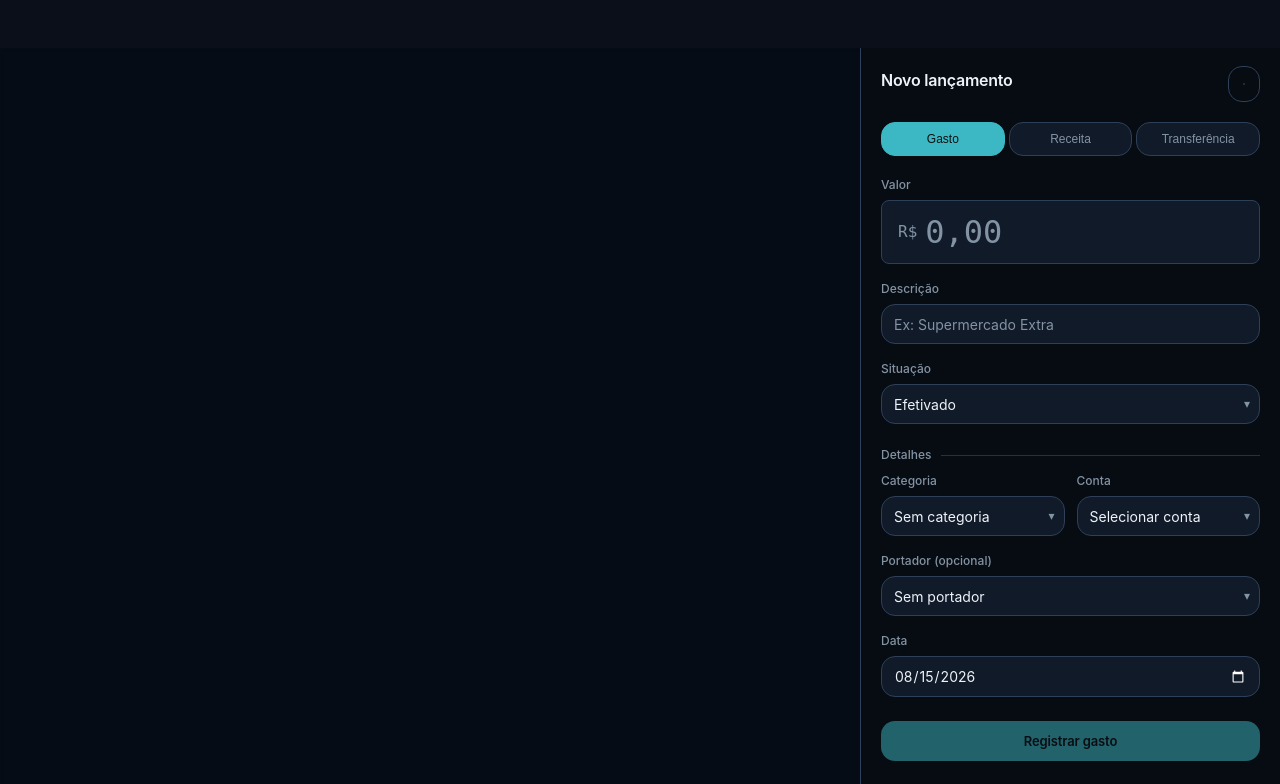
Test: ModalNovoLancamento › mantém o rascunho e explica o erro quando salvar falha
Type "50,00" into the field named "Valor do lançamento em reais" at coordinates (1084, 232), box [925,213,1243,251]
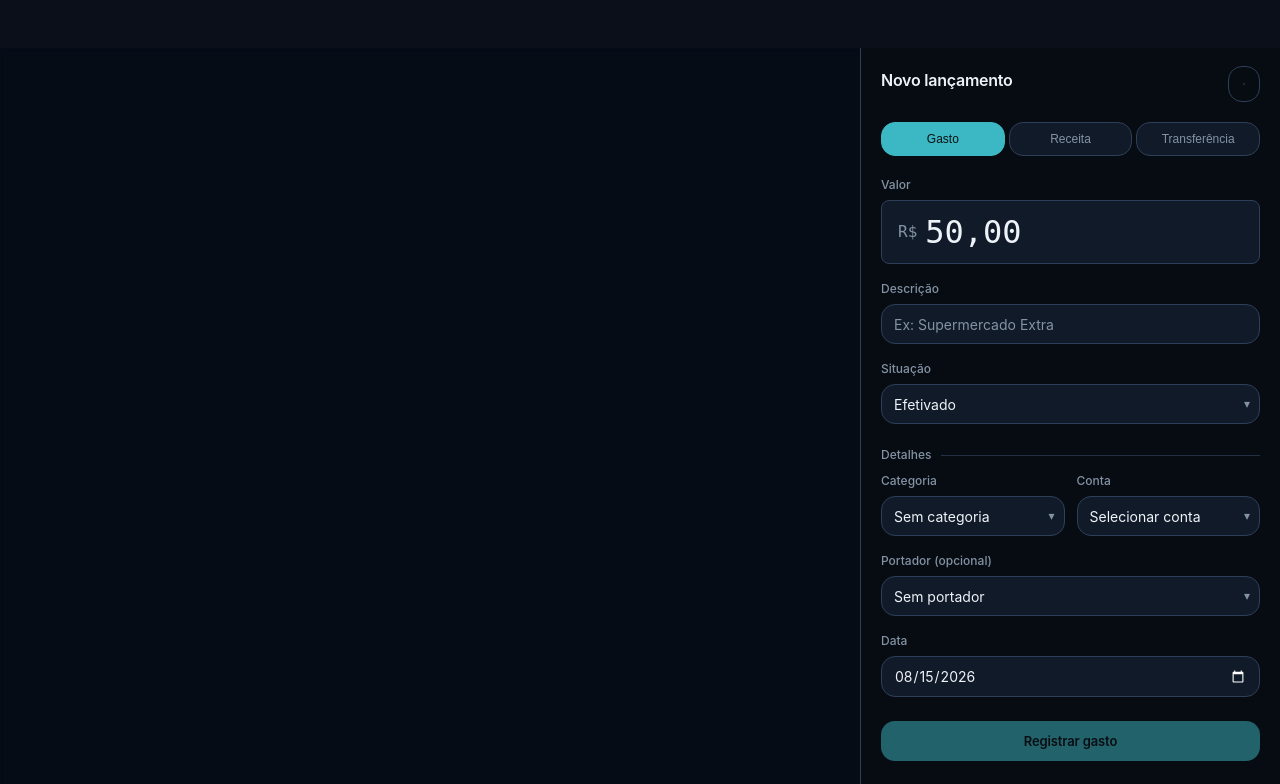
Type "Supermercado" into the field named "Descrição do lançamento" at coordinates (1070, 324), box [881,304,1260,344]
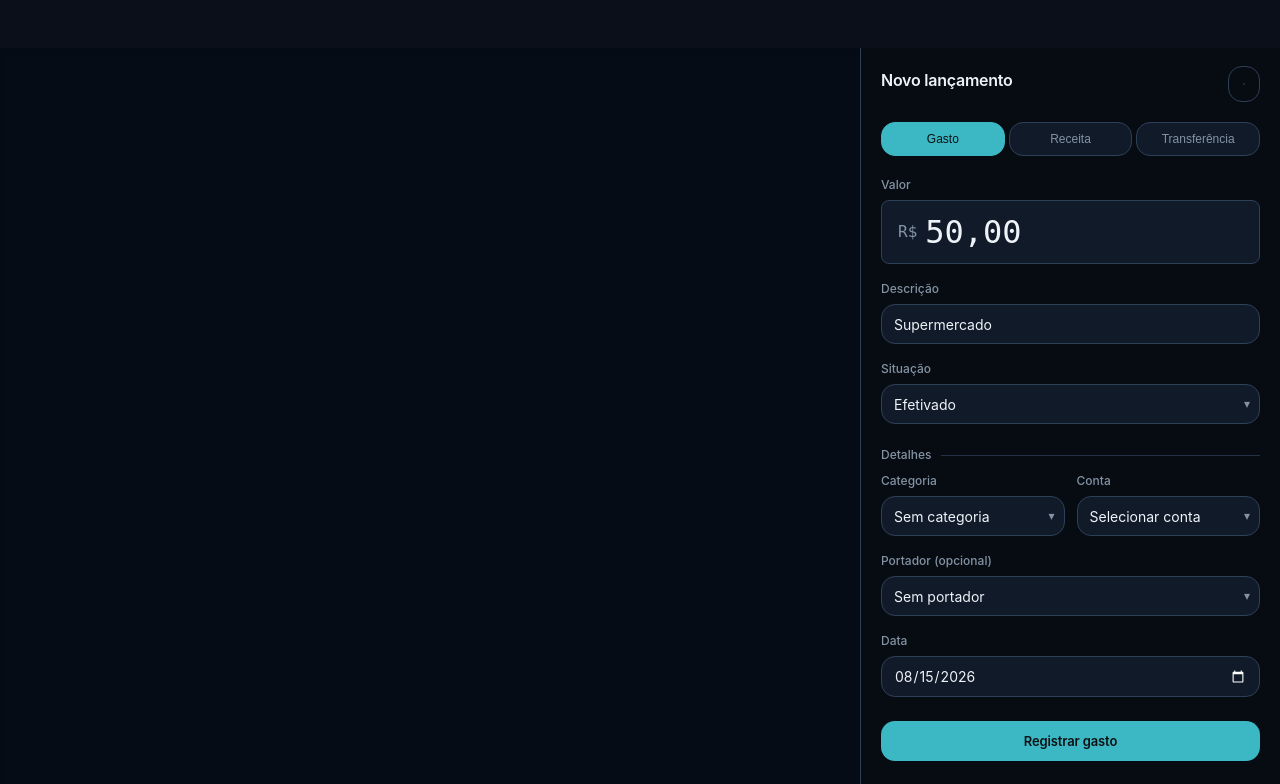
Click the button with class "cta" at coordinates (1070, 741), box [881,721,1260,761]
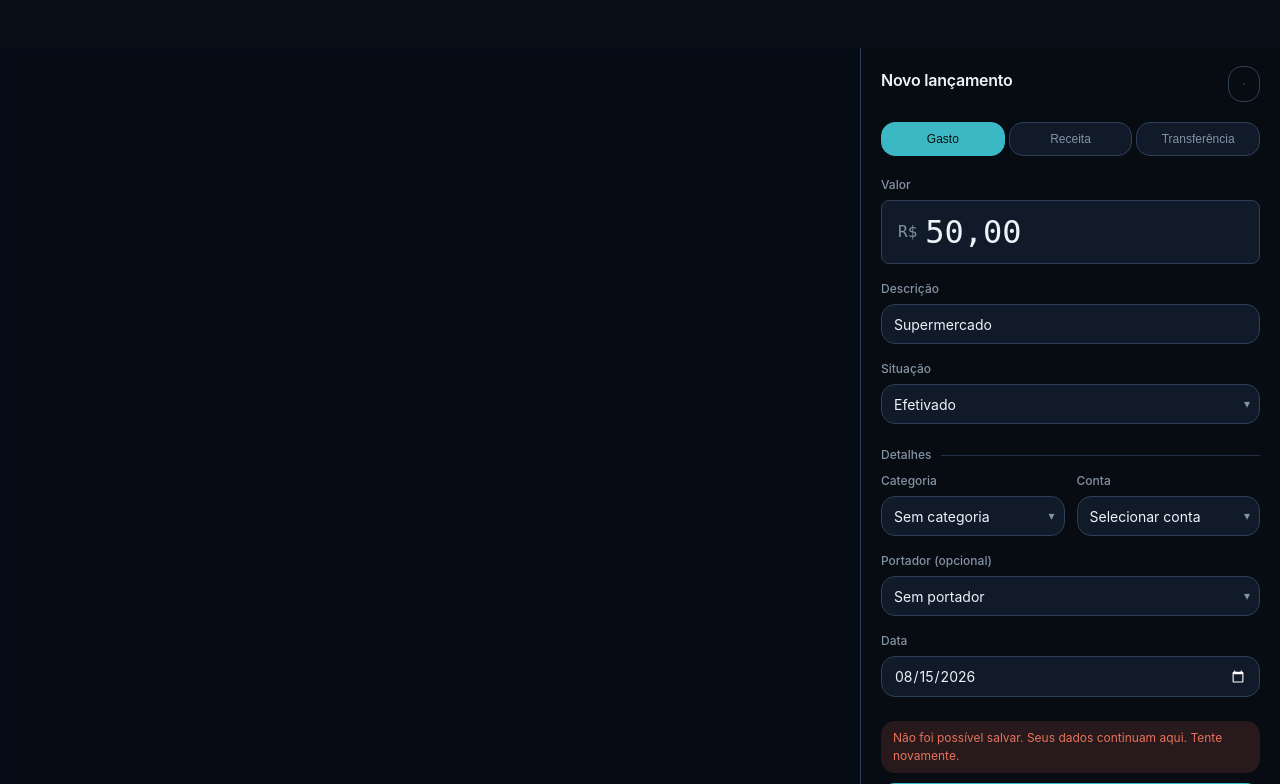
Result: the text "Seus dados continuam aqui" is shown at [893,730,1222,763]
